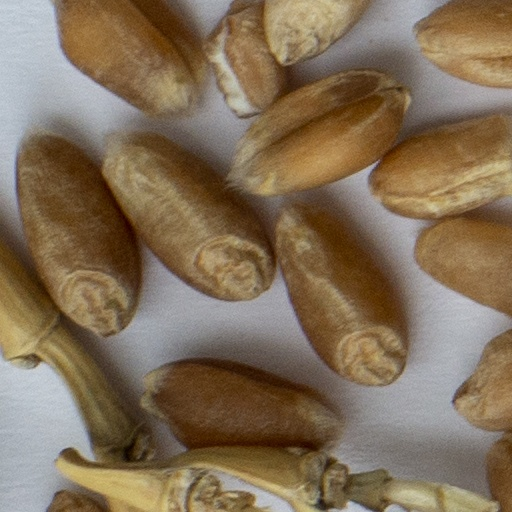Wheat-grain-damaged-poly: (205, 1, 284, 116)
